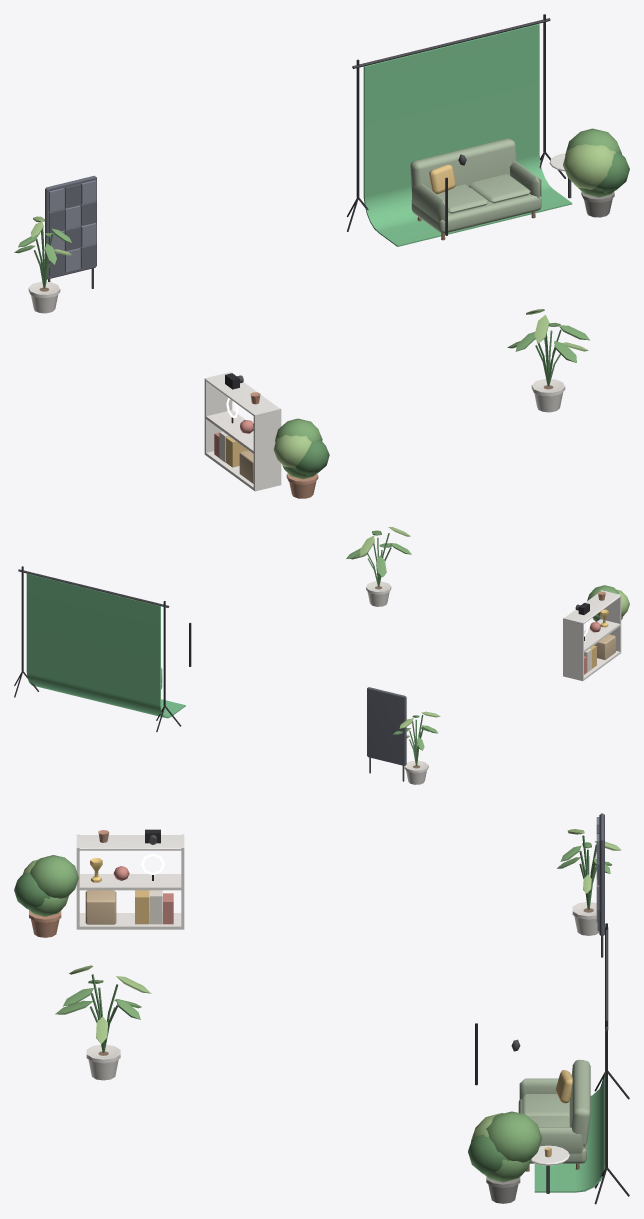
The model's file is einrichtung_freies_zimmer_studio_buehne.glb.
3 views of the same model, one above another, from view 1: azimuth 30°, elevation 25°; view 2: azimuth 150°, elevation 25°; view 3: azimuth 270°, elevation 25° (orthographic). The views are drawn at different scales.
Visible parts, largest first — view 1: einrichtung_freies_zimmer_studio_buehne; view 2: einrichtung_freies_zimmer_studio_buehne; view 3: einrichtung_freies_zimmer_studio_buehne.
Part boxes in pixels (x1,y1,x2,y2): einrichtung_freies_zimmer_studio_buehne: [14, 14, 629, 498]; einrichtung_freies_zimmer_studio_buehne: [14, 527, 629, 784]; einrichtung_freies_zimmer_studio_buehne: [14, 813, 629, 1204].
Size of the model in its own units: 7.77 by 2.16 by 6.86.
